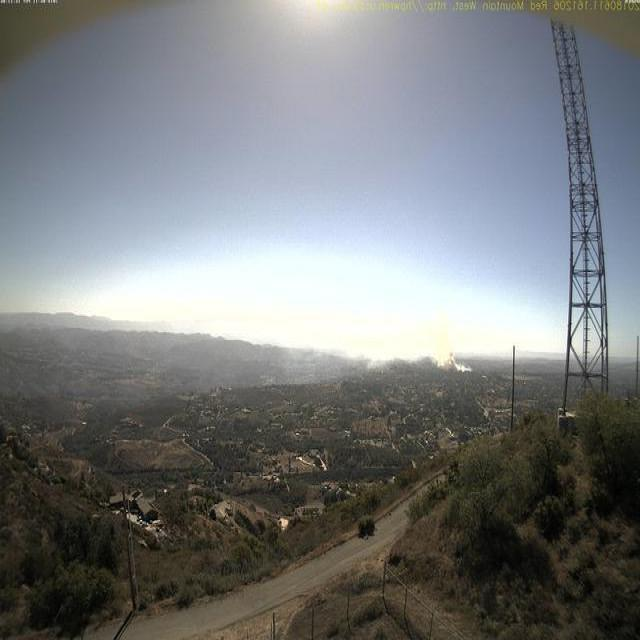Smoke: (282, 332, 476, 376)
